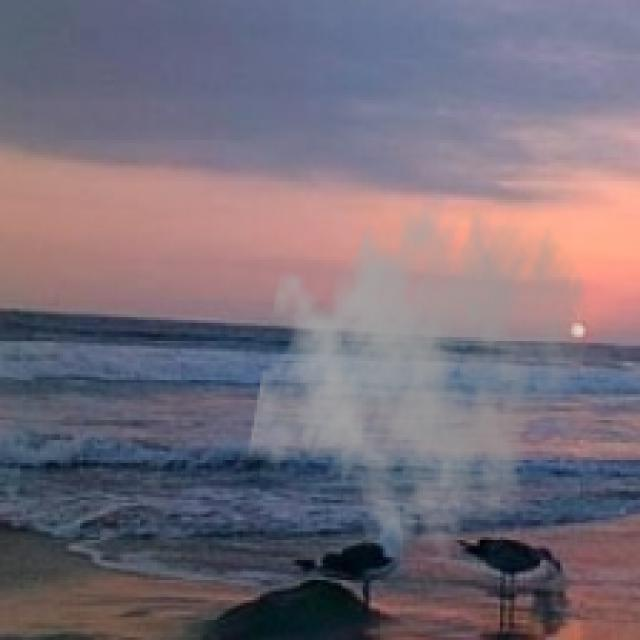Smoke: (246, 162, 592, 568)
